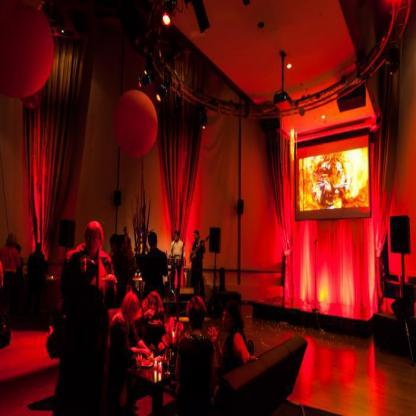other: (284, 120, 372, 278)
